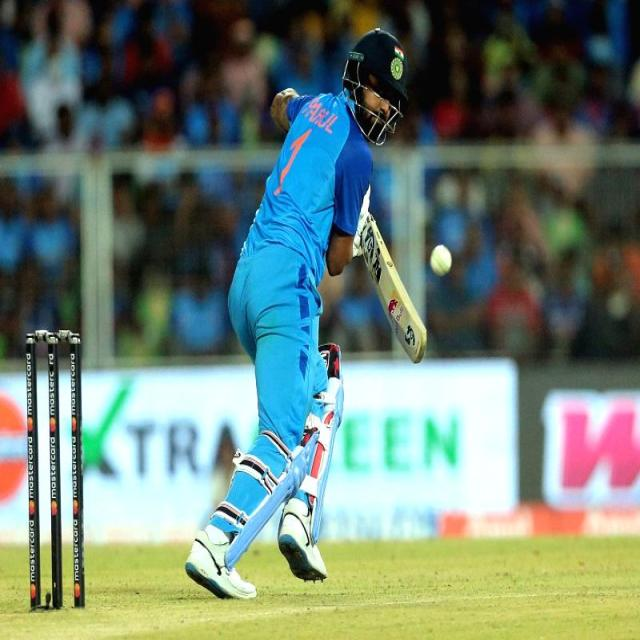ball: (430, 242, 454, 278)
stump: (23, 329, 86, 609)
